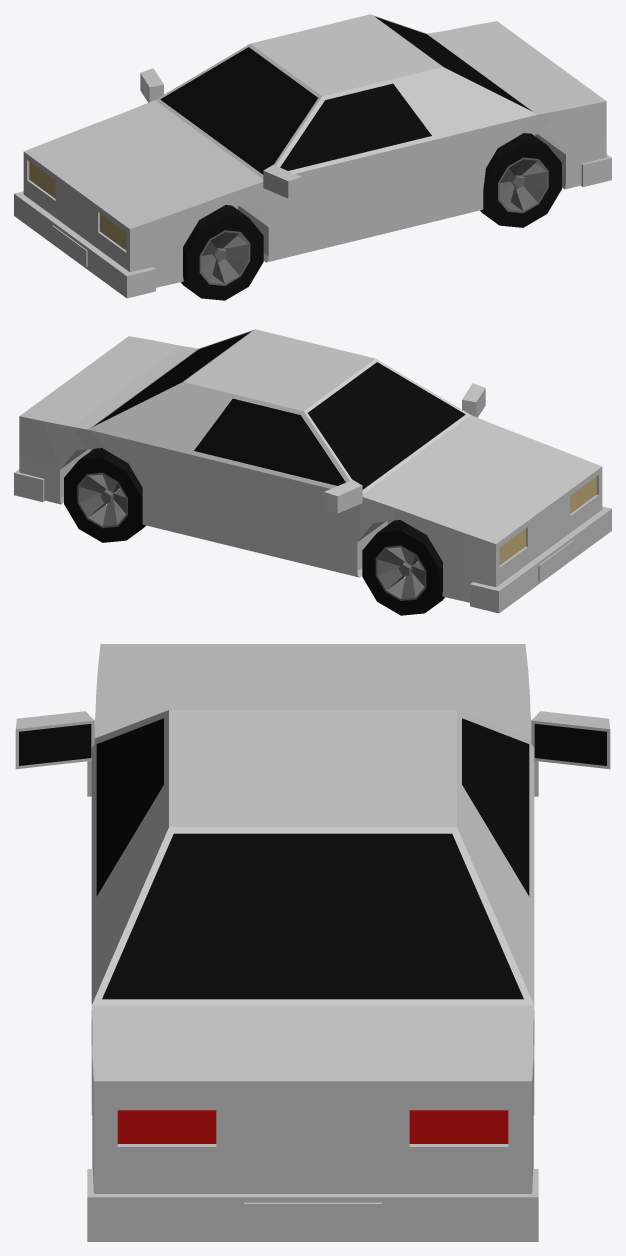
Rendered from realistic_lowpoly_sedan.obj.
3 views of the same model, one above another, from view 1: azimuth 30°, elevation 25°; view 2: azimuth 150°, elevation 25°; view 3: azimuth 270°, elevation 25° (orthographic). The views are drawn at different scales.
Parts seen in each view (by area): view 1: Cube, Cylinder.002, Cylinder.003; view 2: Cube, Cylinder, Cylinder.001; view 3: Cube.
Part boxes in pixels (box(x1,y1,x2,y2)): Cube: box(14, 14, 611, 298); Cylinder.002: box(181, 205, 263, 300); Cylinder.003: box(480, 133, 561, 227); Cube: box(14, 329, 611, 613); Cylinder: box(362, 520, 444, 615); Cylinder.001: box(64, 448, 145, 542); Cube: box(15, 644, 610, 1241).
Bounding box in the file's own units: 4.58 × 1.45 × 2.42.
